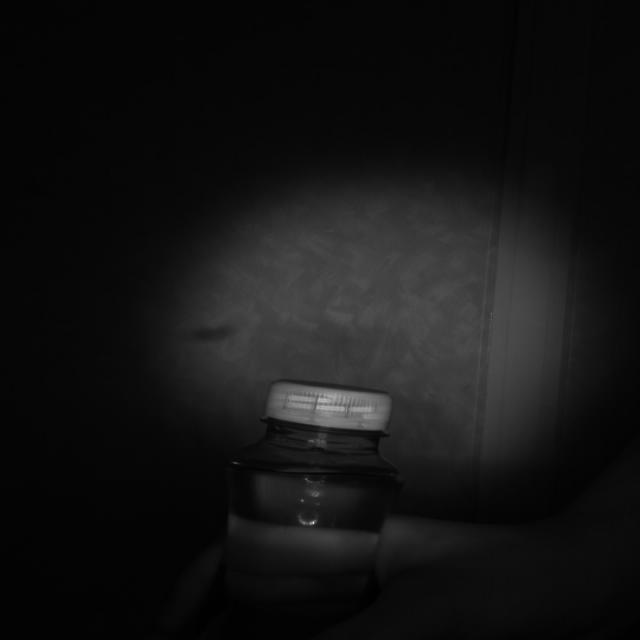Good: (256, 378, 398, 437)
